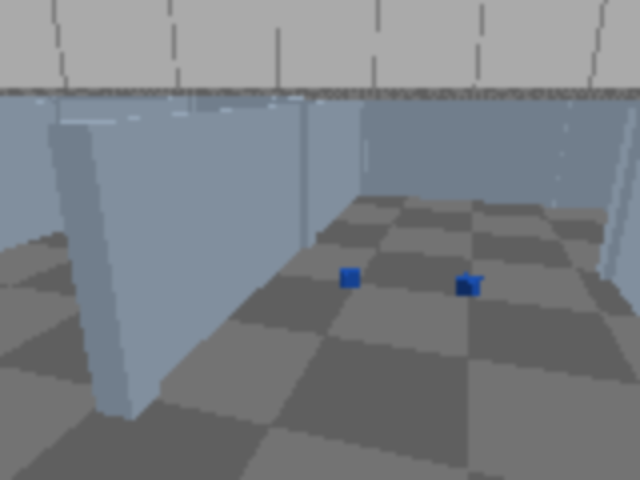puck: (455, 273, 482, 298), (338, 267, 360, 288)
